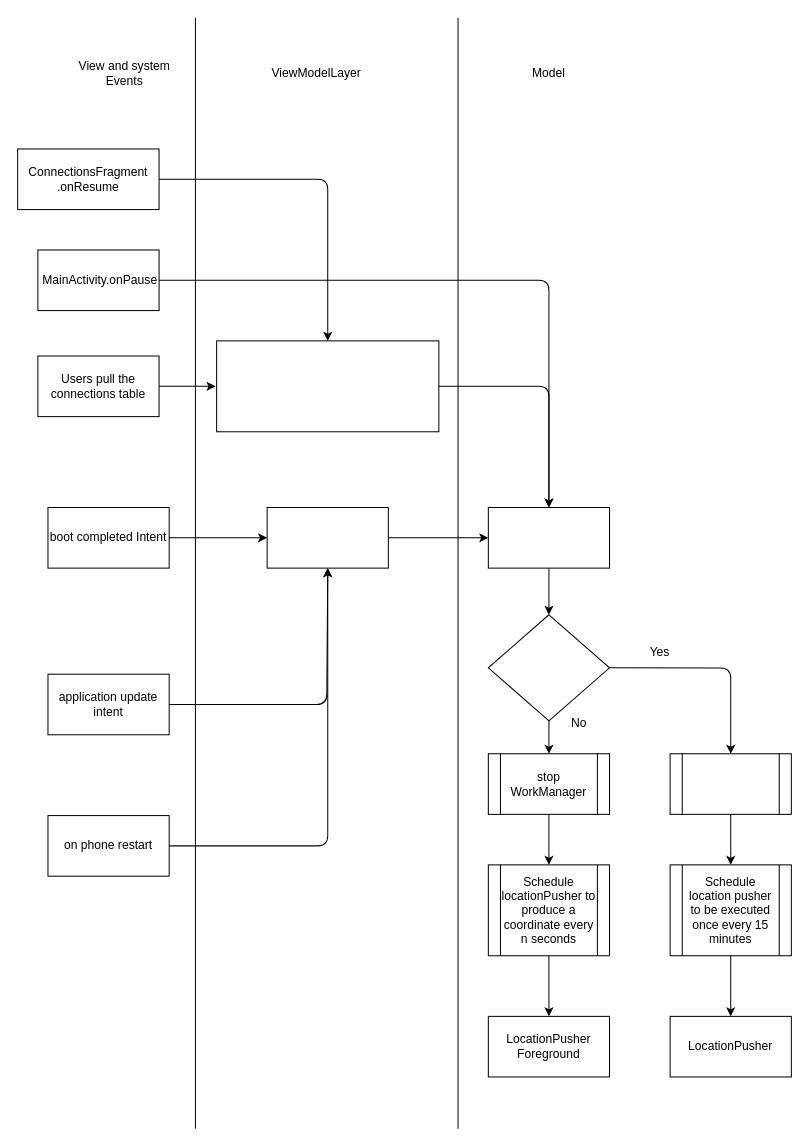
The diagram is 809 pixels wide and 1147 high, and some of its shapes have lost their labels. Each missing label, with the centre of its shape:
"AutoStart" belongs at (x=327, y=537).
"ConnectionsPresenter .getConnections" belongs at (x=327, y=386).
"if background" belongs at (x=548, y=667).
"Session.startTracking with debouncer" belongs at (x=548, y=537).
"start WorkManager" belongs at (x=730, y=783).
